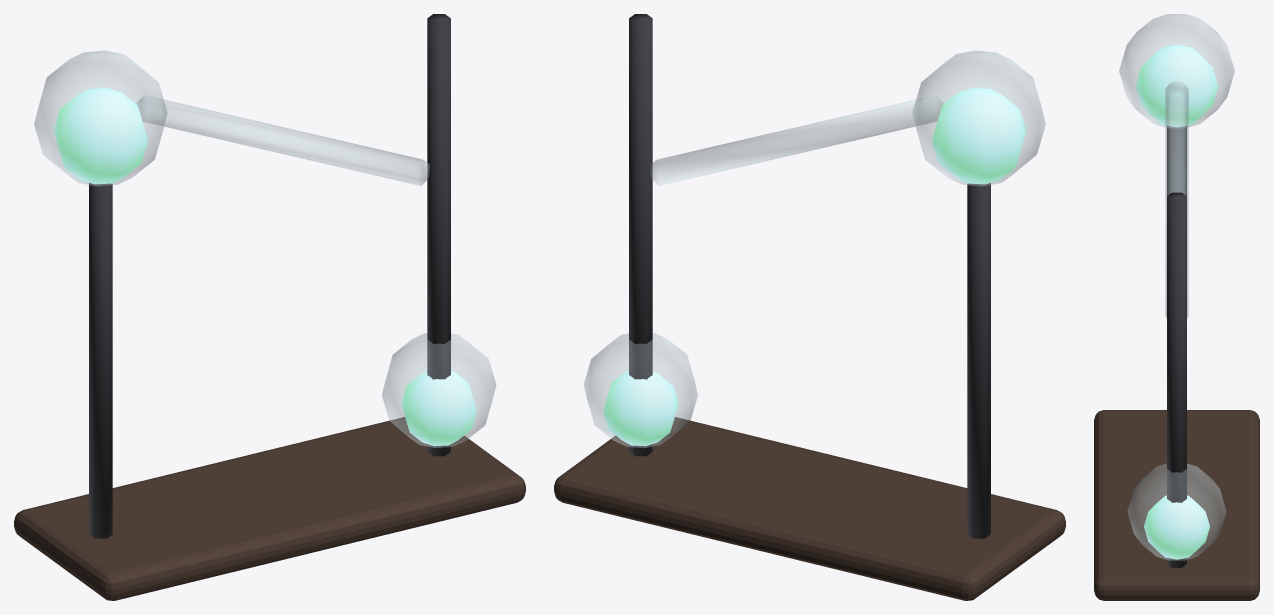
Rendered from apparatus_distill_rig.glb.
3 renders of one model, left to right at view 1: azimuth 30°, elevation 25°; view 2: azimuth 150°, elevation 25°; view 3: azimuth 270°, elevation 25°, orthographic. The views are drawn at different scales.
Parts seen in each view (by area): view 1: GD_apparatus_distill_rig__m0, GD_apparatus_distill_rig__m2, GD_apparatus_distill_rig__m1, GD_apparatus_distill_rig__m3; view 2: GD_apparatus_distill_rig__m0, GD_apparatus_distill_rig__m2, GD_apparatus_distill_rig__m1, GD_apparatus_distill_rig__m3; view 3: GD_apparatus_distill_rig__m0, GD_apparatus_distill_rig__m2, GD_apparatus_distill_rig__m3, GD_apparatus_distill_rig__m1.
Boxes of the visible parts, box(x1,y1,x2,y2) form: GD_apparatus_distill_rig__m0: box(14, 417, 525, 600); GD_apparatus_distill_rig__m2: box(34, 50, 496, 448); GD_apparatus_distill_rig__m1: box(89, 14, 450, 538); GD_apparatus_distill_rig__m3: box(53, 88, 476, 446); GD_apparatus_distill_rig__m0: box(554, 417, 1065, 600); GD_apparatus_distill_rig__m2: box(583, 50, 1045, 448); GD_apparatus_distill_rig__m1: box(629, 14, 990, 538); GD_apparatus_distill_rig__m3: box(603, 88, 1026, 446); GD_apparatus_distill_rig__m0: box(1094, 410, 1259, 600); GD_apparatus_distill_rig__m2: box(1119, 14, 1234, 560); GD_apparatus_distill_rig__m3: box(1135, 45, 1218, 559); GD_apparatus_distill_rig__m1: box(1167, 126, 1186, 567).
Bounding box in the file's own units: 0.5236 × 0.57 × 0.2.
